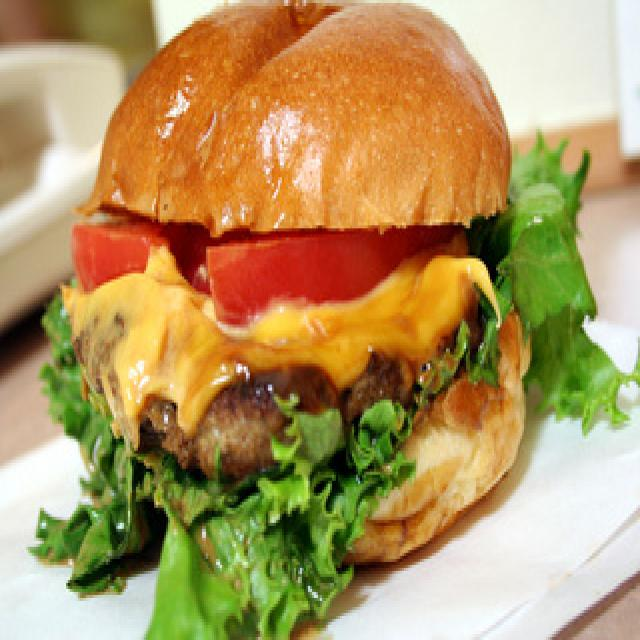汉堡快餐: (52, 0, 560, 577)
